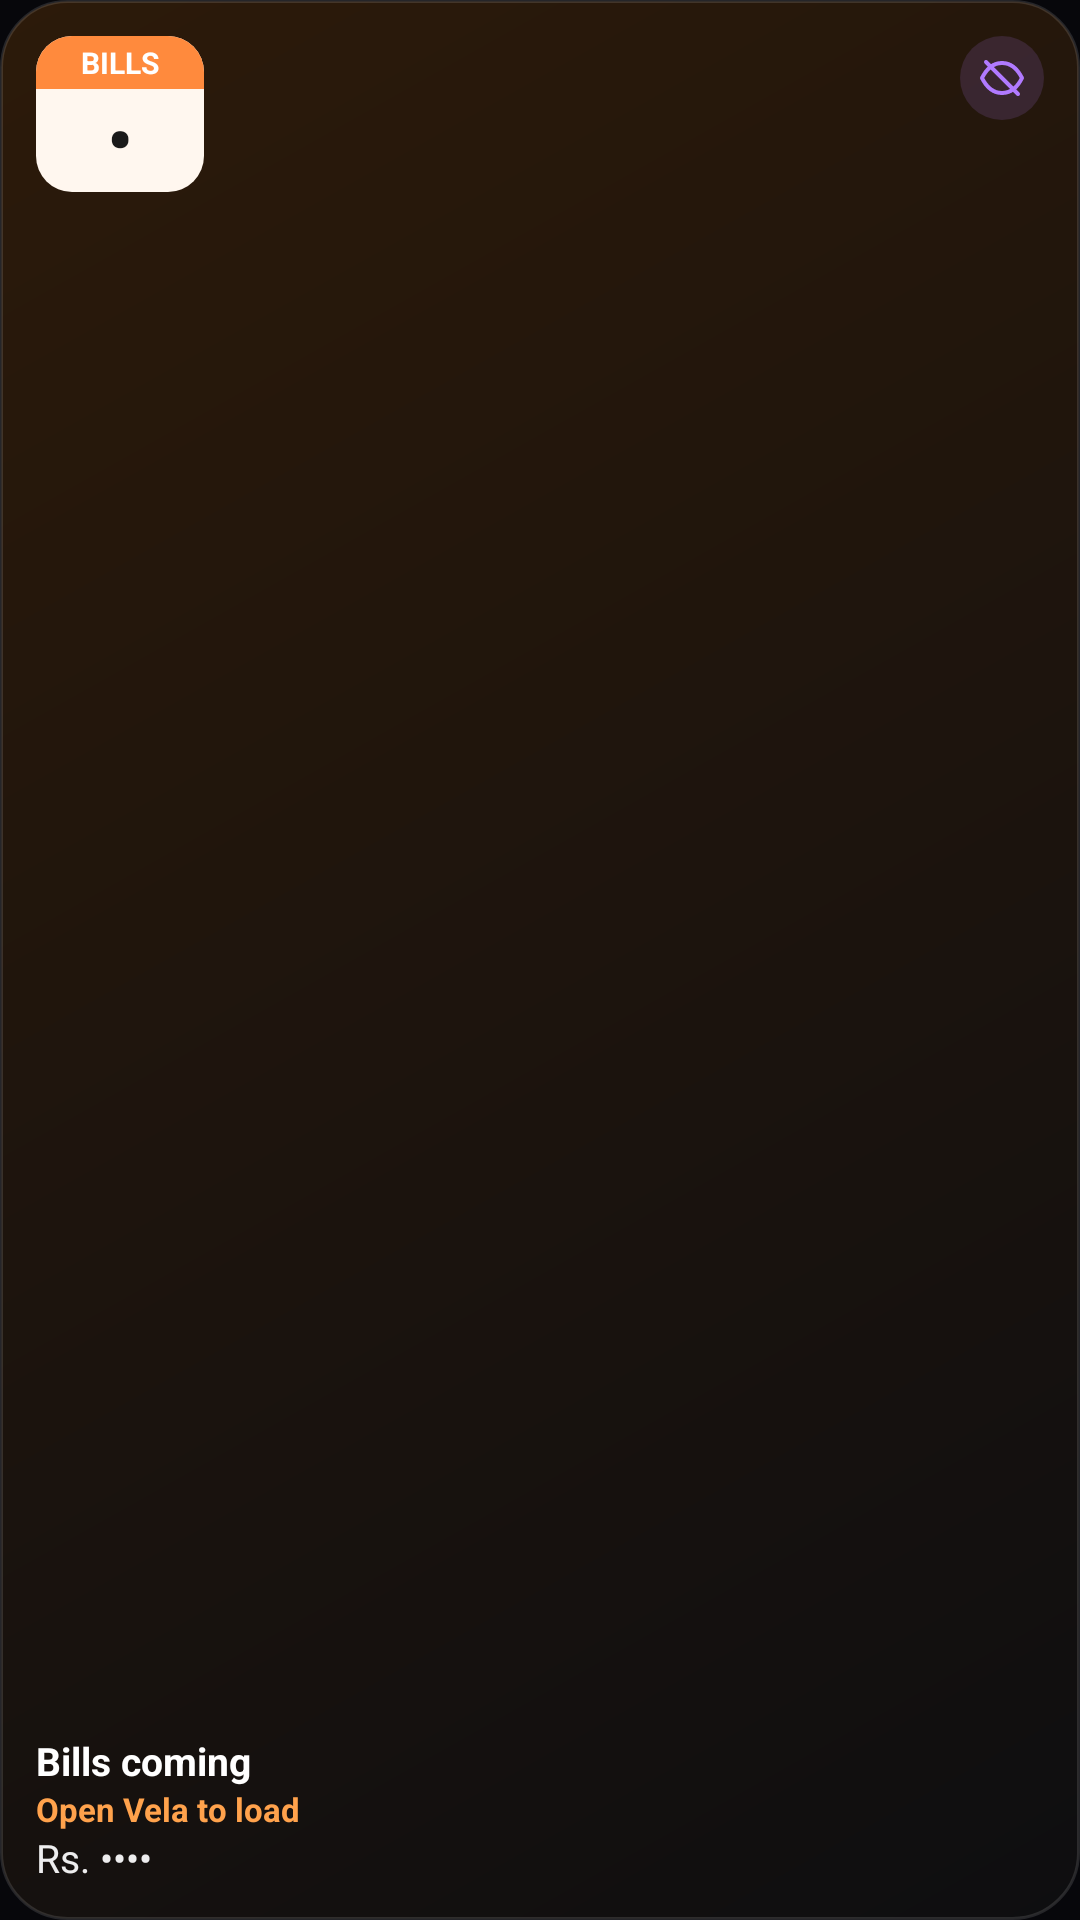

Screen size 1080*1920. Icon name, then its box in pixels as (x1, y1, x2, y2):
Show amounts: (960, 36, 1044, 120)
